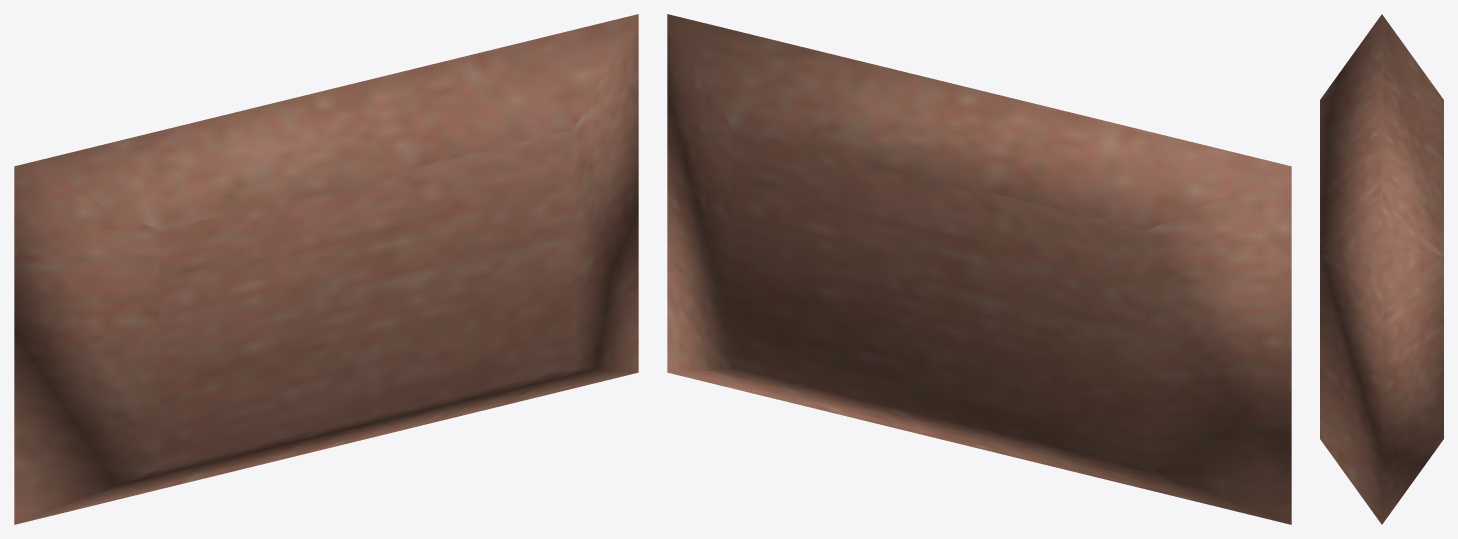
The model's file is SquarePillow_5.fbx.
3 views of the same model, side by side, from view 1: azimuth 30°, elevation 25°; view 2: azimuth 150°, elevation 25°; view 3: azimuth 270°, elevation 25° (orthographic). The views are drawn at different scales.
Visible parts, largest first — view 1: ThrowPillow_Red_01; view 2: ThrowPillow_Red_01; view 3: ThrowPillow_Red_01.
Part boxes in pixels (x1,y1,x2,y2): ThrowPillow_Red_01: (14, 14, 638, 524); ThrowPillow_Red_01: (667, 14, 1291, 524); ThrowPillow_Red_01: (1320, 14, 1443, 524).
Size of the model in its own units: 0.9526 by 0.5227 by 0.2124.
